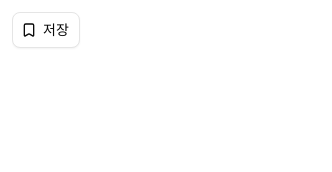
Scenario: 저장하면 저장되었다는 표시가 나오고 버튼이 '저장됨'이 된다
Click the button "저장" at point(46, 30), box [12,12,80,48]
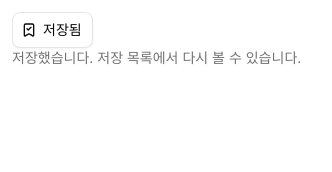
Result: the button "저장됨" is shown at [12,12,93,48]
Result: the message shows "저장했습니다" at [12,49,301,66]
